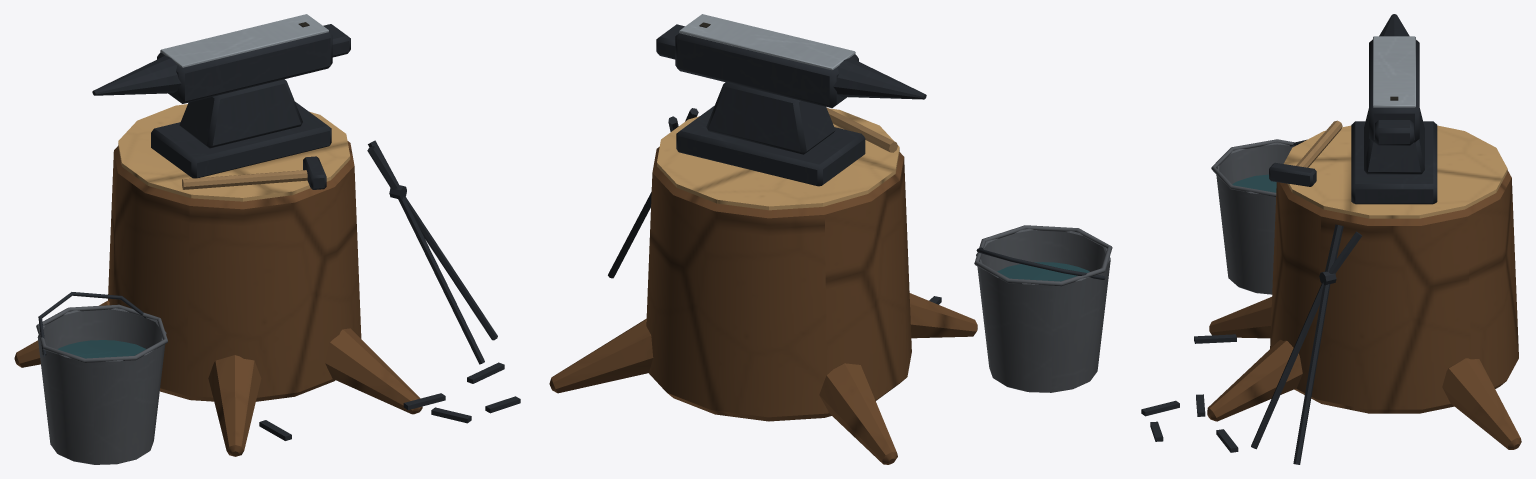
The model's file is anvil_stump.glb.
The picture shows the model from 3 angles, left to right: view 1: azimuth 30°, elevation 25°; view 2: azimuth 150°, elevation 25°; view 3: azimuth 270°, elevation 25°; orthographic projection. The views are drawn at different scales.
Parts seen in each view (by area): view 1: anvil_stump; view 2: anvil_stump; view 3: anvil_stump.
Part boxes in pixels (left/top/right/bottom): anvil_stump: left=14, top=14, right=520, bottom=464; anvil_stump: left=549, top=14, right=1112, bottom=464; anvil_stump: left=1141, top=14, right=1521, bottom=464.
Bounding box in the file's own units: 1.33 × 0.8894 × 0.9738.
9 materials, 9 textured.
